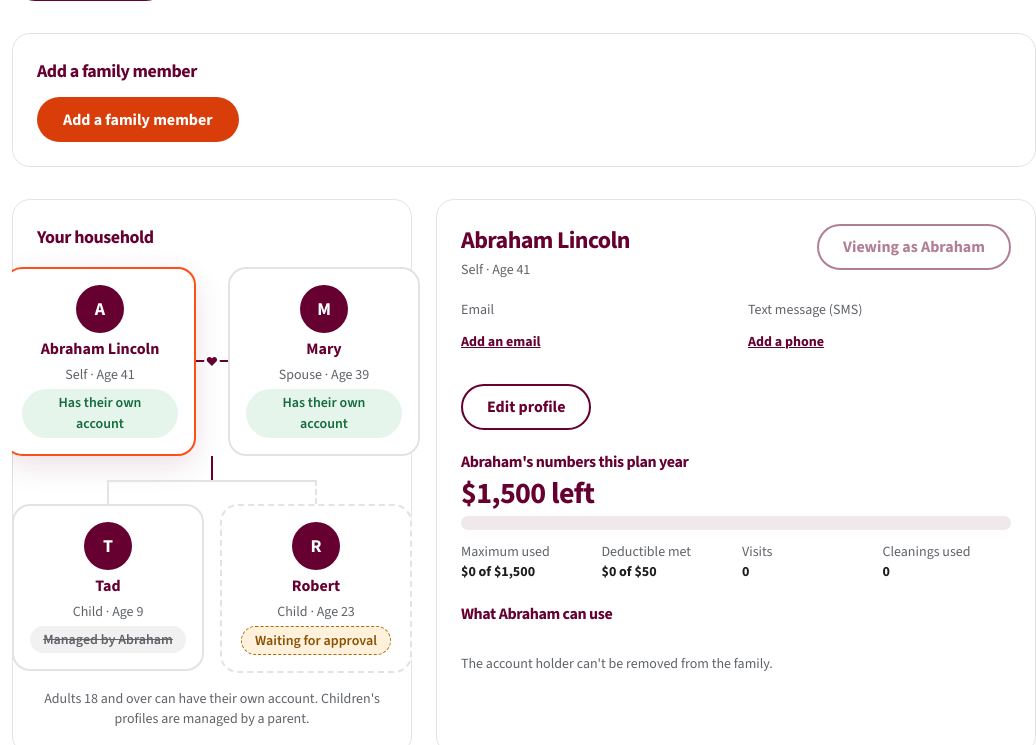
Edit profile › shows the contact row with a masked phone and empty states
(page scrolled)
Click the button with test id "node-m-alex". click: x=324, y=361
box: [228,267,420,456]
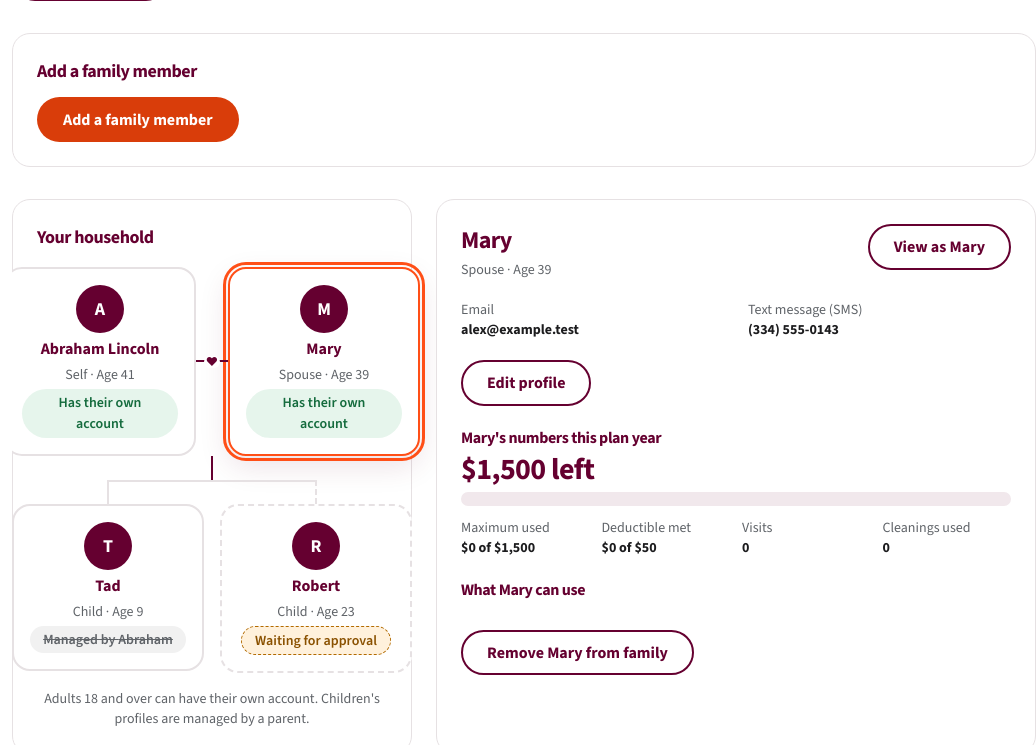
Expected: the text with test id "contact-email" reads "alex@example.test", [461,320,579,339]
Expected: the text with test id "contact-phone" reads "(334) 555-0143", [748,320,839,339]
Click the button with test id "node-m-maya". click: x=108, y=587
box: [12,504,204,671]
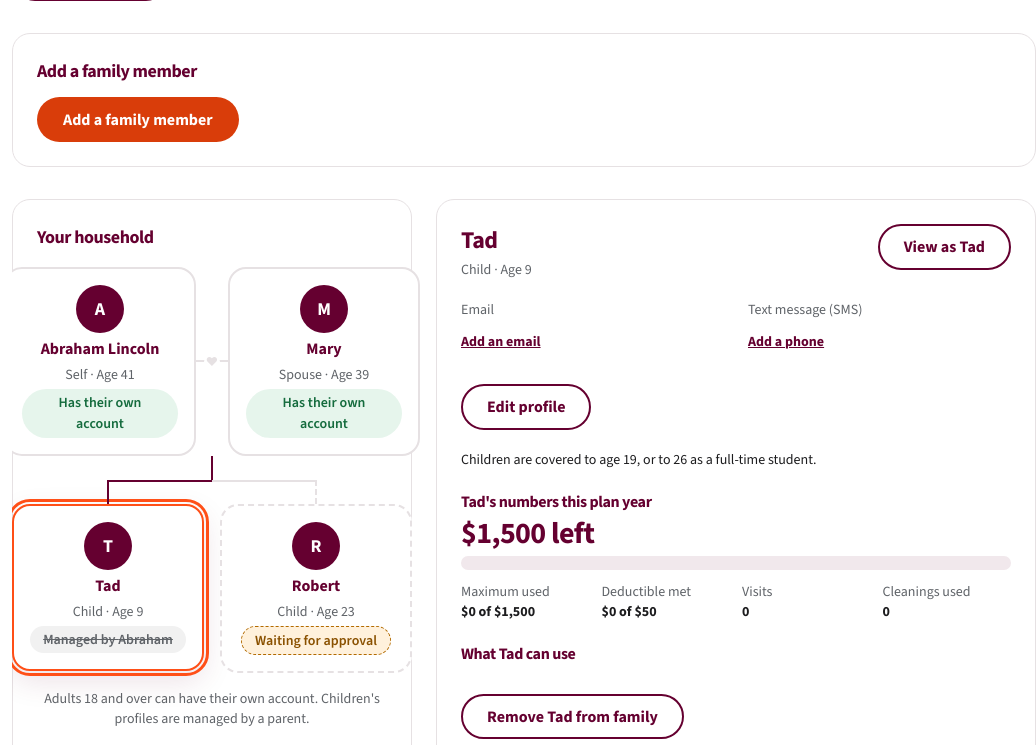
Expected: the button "Add an email" is shown, [461,320,541,364]
Expected: the button "Add a phone" is shown, [748,320,824,364]
